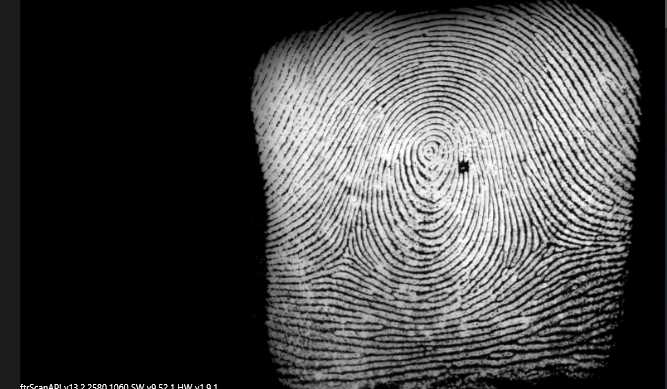nucelo: (414, 137, 451, 169)
verticilo: (330, 236, 361, 266), (532, 228, 567, 253)
